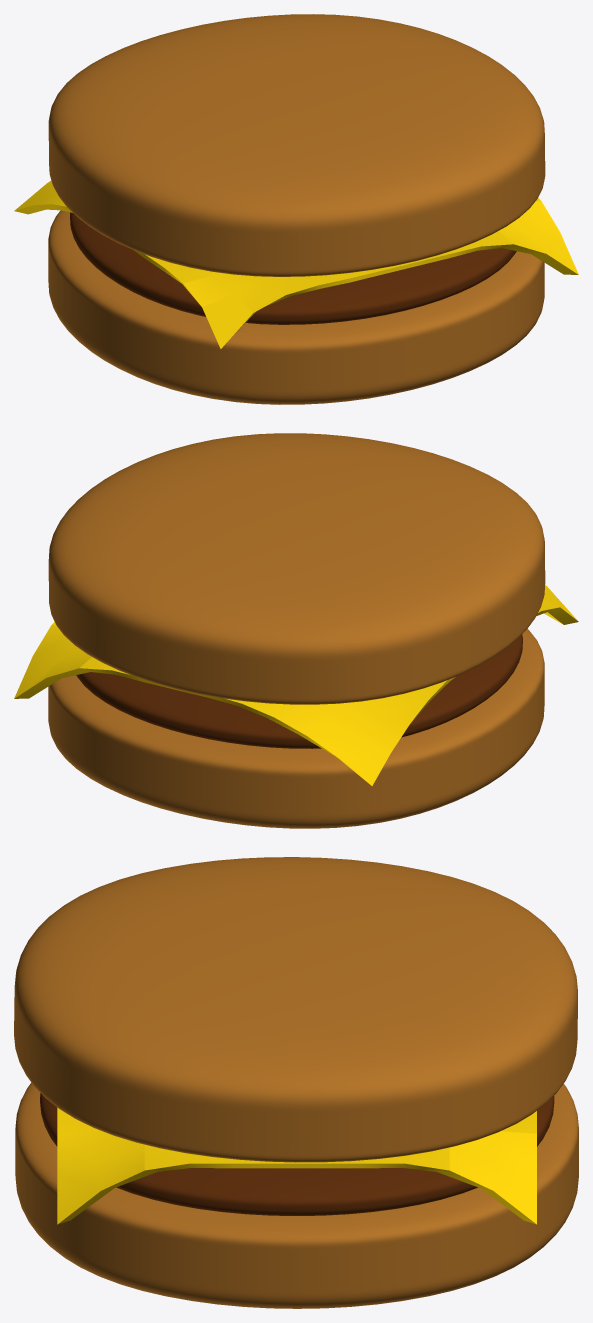
The model's file is hamburger.glb.
3 renders of one model, top to bottom at view 1: azimuth 30°, elevation 25°; view 2: azimuth 150°, elevation 25°; view 3: azimuth 270°, elevation 25°, orthographic. The views are drawn at different scales.
Parts seen in each view (by area): view 1: Cube.002, Cube, Cube.001, Plane; view 2: Cube.002, Cube, Plane, Cube.001; view 3: Cube.002, Cube, Plane, Cube.001.
Part boxes in pixels (<box>): Cube.002: <box>48,14,545,276</box>; Cube: <box>48,210,544,404</box>; Cube.001: <box>70,212,516,324</box>; Plane: <box>14,180,578,348</box>; Cube.002: <box>48,433,545,704</box>; Cube: <box>48,629,544,828</box>; Plane: <box>14,585,578,785</box>; Cube.001: <box>76,634,522,748</box>; Cube.002: <box>14,857,577,1162</box>; Cube: <box>15,1082,578,1308</box>; Plane: <box>57,1107,536,1224</box>; Cube.001: <box>40,1093,554,1215</box>.
Size of the model in its own units: 8.4 by 4.36 by 8.42.
